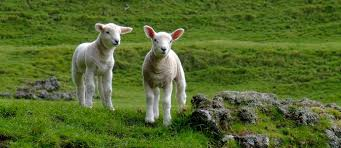sheep: (135, 24, 190, 126), (72, 24, 132, 108)
